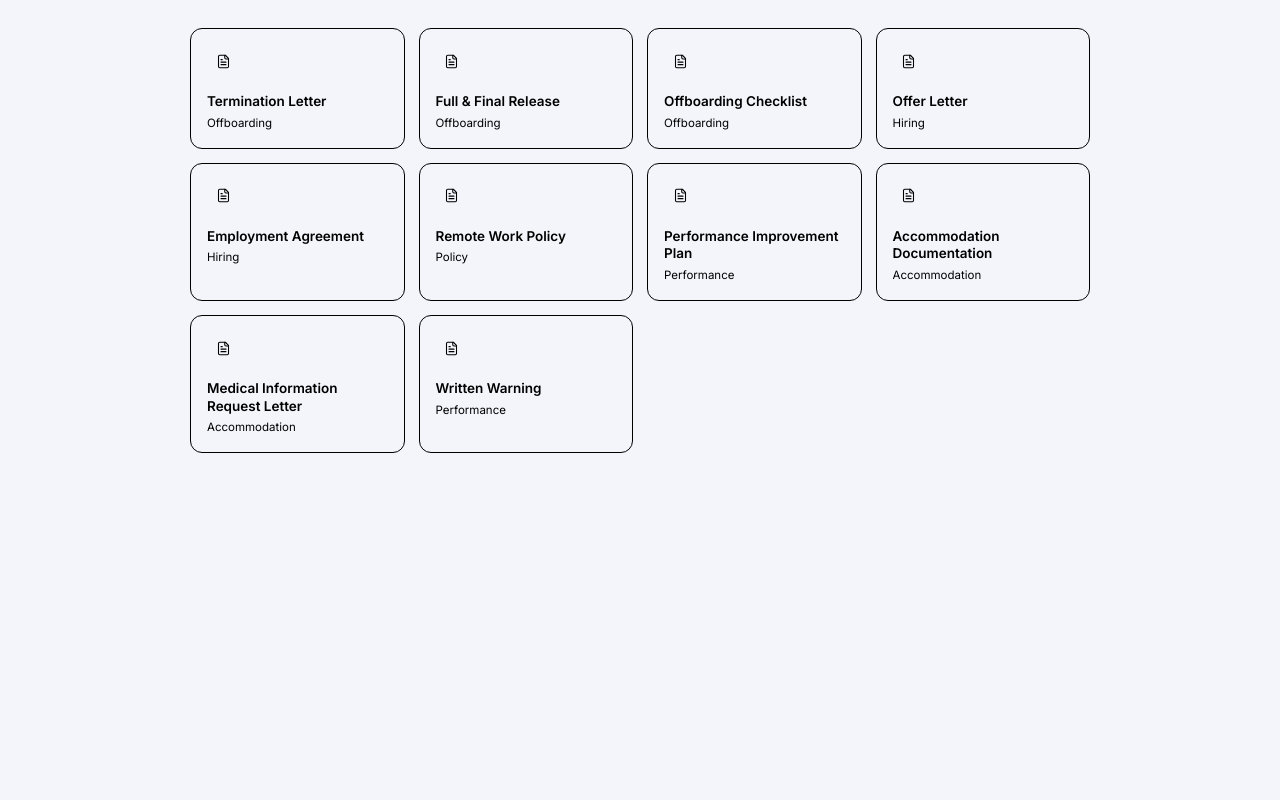
Test: TemplatesView › opens the Document Studio overlay when a tile is clicked
Click the button "Offboarding Checklist Offboarding".
click(754, 88)  # box top-left (647, 28), bottom-right (862, 149)
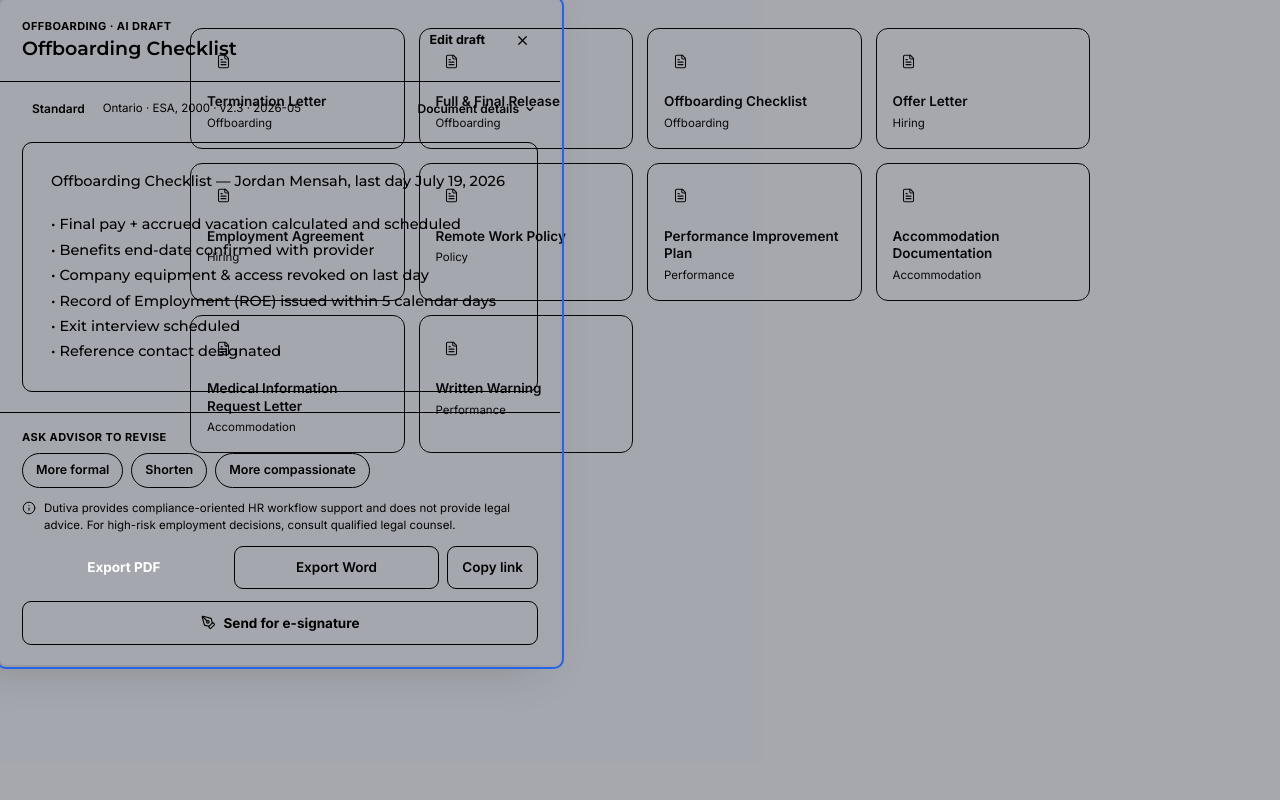
Check: the text "Offboarding Checklist — Jordan Mensah, last day July 19, 2026" is shown, box top-left (51, 169), bottom-right (509, 194)
